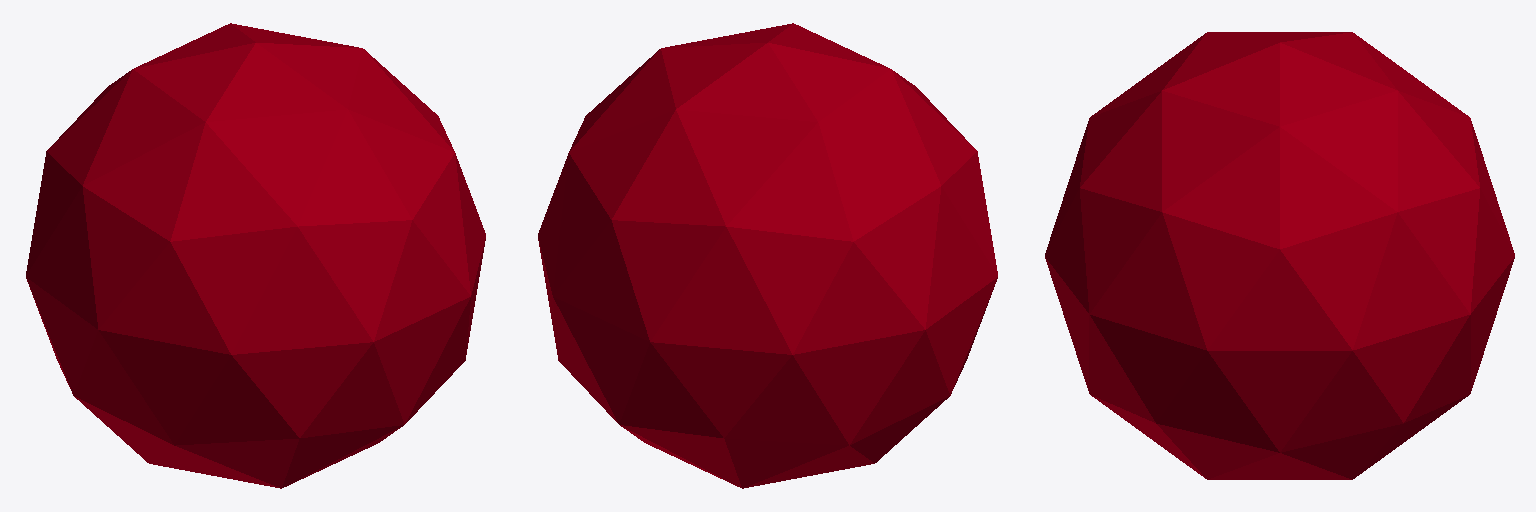
File: enemy1.obj
3 renders of one model, left to right at view 1: azimuth 30°, elevation 25°; view 2: azimuth 150°, elevation 25°; view 3: azimuth 270°, elevation 25°, orthographic.
Visible parts, largest first — view 1: Icosphere; view 2: Icosphere; view 3: Icosphere.
Boxes of the visible parts, box(x1,y1,x2,y2) form: Icosphere: box(26, 23, 485, 488); Icosphere: box(538, 23, 997, 488); Icosphere: box(1045, 32, 1514, 479).
Size of the model in its own units: 1.9 by 2 by 2.